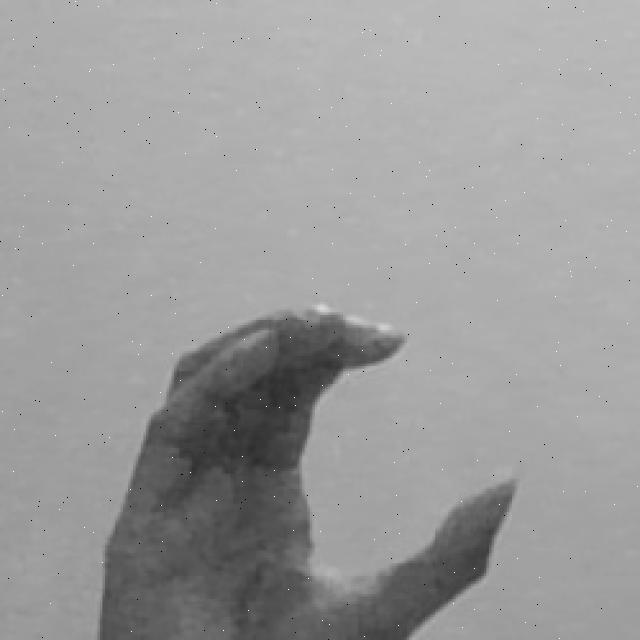C: (107, 304, 522, 640)
